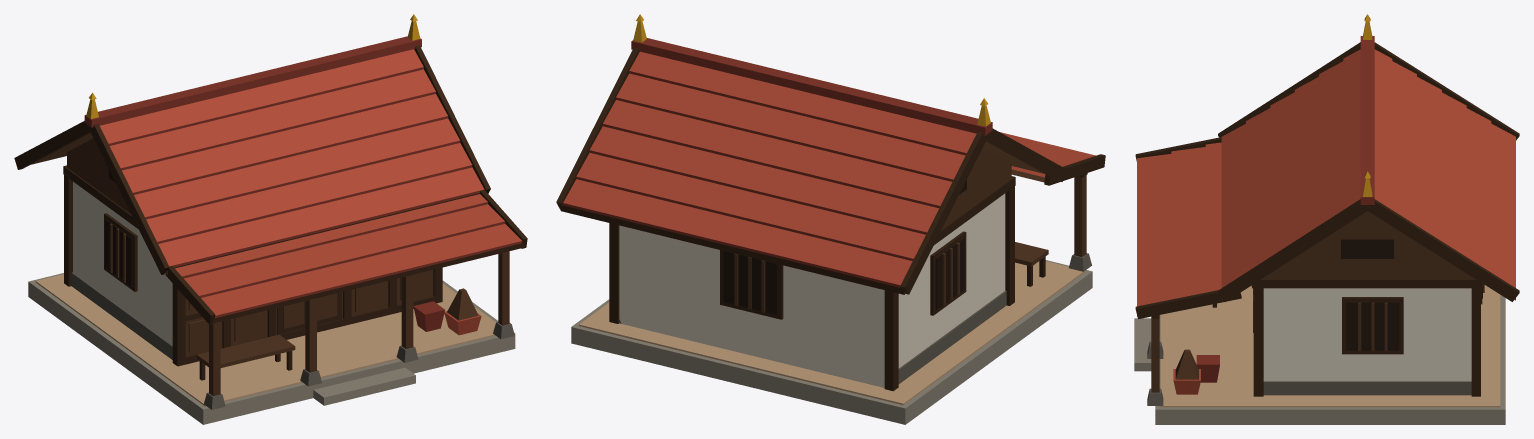
The model's file is rumah_kampung.glb.
3 views of the same model, side by side, from view 1: azimuth 30°, elevation 25°; view 2: azimuth 150°, elevation 25°; view 3: azimuth 270°, elevation 25° (orthographic). The views are drawn at different scales.
Parts seen in each view (by area): view 1: rumah_kampung; view 2: rumah_kampung; view 3: rumah_kampung.
Part boxes in pixels (<box>): rumah_kampung: <box>14,14,527,424</box>; rumah_kampung: <box>556,14,1105,424</box>; rumah_kampung: <box>1134,14,1519,424</box>.
Size of the model in its own units: 7.2 by 5.33 by 7.27.
